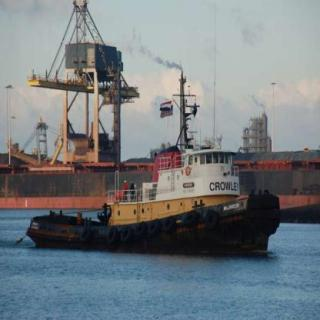Tug Boat: (20, 38, 276, 245)
